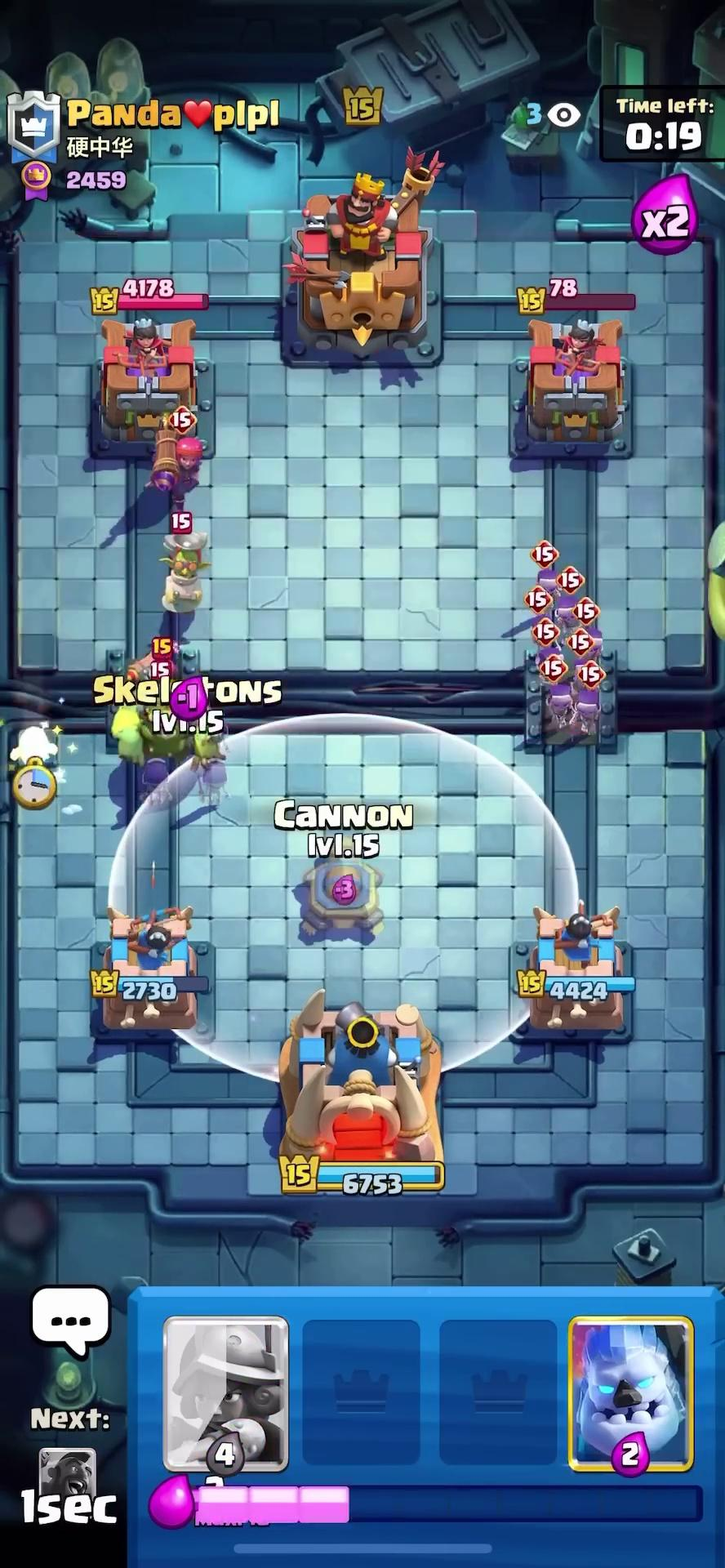ice_spirit: (8, 710, 63, 774)
